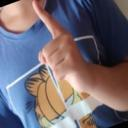hand: (32, 0, 90, 95)
